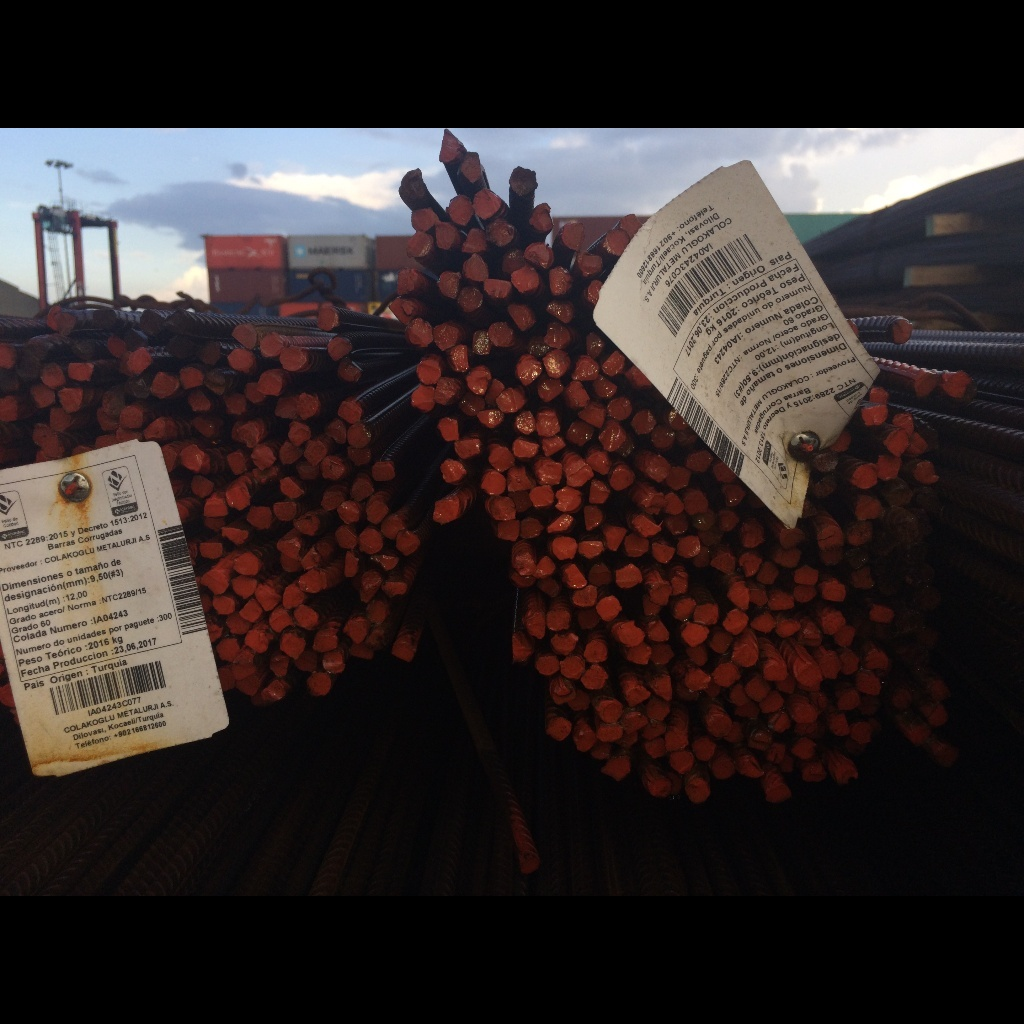dipstick: (473, 188, 499, 219), (510, 166, 538, 194), (439, 130, 463, 162), (943, 369, 968, 399), (408, 320, 435, 347), (435, 377, 462, 404), (517, 356, 541, 386), (152, 372, 179, 398), (462, 254, 488, 281), (544, 351, 570, 378), (400, 168, 425, 196), (466, 366, 490, 395), (450, 194, 472, 225), (527, 243, 554, 268), (576, 251, 603, 276), (794, 661, 821, 686), (180, 443, 204, 471), (461, 227, 485, 255), (487, 222, 515, 246), (550, 267, 573, 296), (407, 231, 432, 257), (566, 462, 592, 487), (459, 286, 483, 313), (411, 385, 435, 412), (602, 758, 629, 782), (530, 203, 552, 232), (462, 153, 483, 183), (167, 310, 192, 335), (488, 447, 513, 472), (616, 563, 641, 588), (765, 777, 790, 802), (513, 267, 539, 291), (433, 325, 459, 349), (556, 487, 582, 511), (847, 523, 873, 547), (852, 464, 876, 490), (191, 415, 218, 438), (498, 389, 525, 412), (600, 424, 623, 451), (17, 354, 39, 382), (906, 565, 934, 587), (563, 222, 584, 251), (347, 423, 371, 448), (538, 379, 563, 403), (433, 498, 458, 522), (912, 485, 937, 509), (902, 540, 927, 564), (548, 300, 574, 323), (885, 431, 907, 458), (604, 231, 628, 255), (546, 324, 570, 348), (489, 322, 513, 346), (568, 423, 592, 447), (508, 468, 532, 492), (538, 462, 562, 486), (42, 363, 65, 388), (282, 346, 305, 371), (226, 484, 249, 509), (327, 337, 352, 360), (509, 306, 534, 329), (389, 300, 414, 323), (536, 412, 559, 437), (607, 397, 632, 420), (437, 271, 459, 297), (489, 498, 515, 520), (912, 591, 940, 611), (233, 325, 257, 348), (358, 530, 381, 554), (411, 208, 435, 231), (686, 779, 709, 803), (724, 611, 747, 635), (139, 309, 161, 334), (228, 350, 253, 372), (202, 571, 227, 593), (552, 537, 577, 559), (877, 458, 902, 480), (648, 456, 669, 482), (712, 664, 738, 685), (737, 756, 763, 777), (634, 517, 661, 537), (280, 635, 303, 658), (417, 361, 440, 384), (546, 717, 569, 740), (589, 562, 612, 585), (685, 491, 708, 514), (60, 387, 82, 411), (143, 417, 167, 439), (234, 553, 258, 575), (258, 586, 280, 610), (308, 673, 330, 697), (441, 460, 465, 482), (600, 700, 622, 724), (598, 596, 620, 620), (632, 409, 654, 433), (200, 340, 221, 365), (567, 381, 588, 406), (683, 625, 708, 646), (817, 526, 842, 547), (876, 572, 901, 593), (30, 386, 56, 406), (435, 223, 455, 249), (546, 513, 572, 533), (204, 371, 226, 394), (168, 337, 191, 359), (259, 333, 282, 355), (276, 396, 298, 419), (322, 456, 344, 479), (295, 606, 318, 628), (321, 652, 344, 674), (396, 532, 419, 554), (583, 666, 606, 688), (856, 498, 879, 520), (872, 531, 895, 553), (247, 507, 271, 528), (345, 619, 366, 643), (365, 500, 386, 524), (381, 514, 402, 538), (451, 345, 469, 373), (481, 473, 505, 494), (619, 624, 643, 645), (609, 469, 633, 490), (781, 527, 805, 548), (552, 634, 577, 654), (579, 406, 604, 426), (814, 453, 839, 473), (132, 348, 151, 374), (234, 652, 253, 678), (526, 612, 545, 638), (586, 332, 605, 358), (606, 526, 625, 552), (252, 446, 274, 468), (191, 474, 213, 496), (245, 630, 267, 652), (269, 610, 291, 632), (561, 657, 583, 679), (693, 738, 715, 760), (644, 493, 666, 515), (668, 467, 690, 489), (531, 485, 554, 506), (497, 520, 520, 541), (553, 680, 574, 703), (624, 713, 647, 734), (584, 641, 607, 662), (676, 536, 699, 557), (914, 462, 937, 483), (239, 423, 259, 447), (574, 586, 598, 606), (574, 359, 598, 379), (651, 542, 675, 562), (864, 650, 888, 670), (861, 406, 885, 426), (68, 362, 93, 381), (397, 269, 416, 294), (579, 540, 604, 559), (668, 753, 693, 772), (741, 551, 760, 576), (768, 591, 793, 610), (822, 654, 841, 679), (908, 646, 933, 665), (454, 440, 480, 458), (893, 317, 911, 343), (180, 367, 202, 388), (280, 444, 302, 465), (263, 680, 284, 702), (336, 527, 357, 549), (566, 565, 587, 587), (603, 353, 624, 375), (723, 483, 744, 505), (857, 673, 879, 694), (813, 477, 835, 498), (929, 680, 950, 702), (392, 642, 415, 662), (366, 600, 386, 623), (505, 248, 525, 271), (621, 214, 641, 237), (519, 519, 542, 539), (625, 537, 648, 557), (833, 761, 856, 781), (896, 520, 919, 540), (187, 392, 211, 411), (203, 497, 227, 516), (536, 657, 560, 676), (546, 612, 570, 631), (584, 505, 603, 529), (687, 452, 711, 471), (694, 605, 718, 624), (299, 393, 317, 418), (512, 637, 530, 662), (730, 583, 748, 608), (485, 280, 511, 297), (280, 478, 301, 499), (289, 423, 310, 444), (299, 570, 320, 591), (515, 553, 536, 574), (651, 584, 672, 605), (714, 462, 735, 483), (712, 758, 733, 779), (121, 408, 143, 428), (233, 578, 255, 598), (239, 601, 261, 621), (338, 361, 360, 381), (589, 481, 609, 503), (686, 668, 708, 688), (748, 678, 768, 700), (752, 613, 774, 633), (914, 376, 936, 396), (93, 308, 116, 327), (259, 374, 282, 393), (227, 452, 246, 475), (217, 639, 236, 662), (314, 634, 337, 653), (296, 652, 319, 671), (516, 411, 535, 434), (514, 439, 537, 458), (542, 437, 565, 456), (652, 676, 671, 699), (652, 428, 675, 447), (666, 492, 685, 515), (712, 555, 735, 574), (794, 567, 818, 585), (777, 548, 801, 566), (96, 410, 117, 430), (283, 586, 304, 606), (339, 402, 360, 422), (509, 492, 530, 512), (578, 610, 599, 630), (594, 378, 615, 398), (652, 645, 673, 665), (821, 613, 841, 634), (823, 581, 844, 601), (927, 704, 947, 725), (50, 408, 69, 430), (306, 442, 325, 464), (296, 515, 318, 534), (351, 481, 373, 500), (318, 308, 337, 330), (439, 419, 458, 441), (538, 579, 560, 598), (665, 515, 687, 534), (675, 599, 694, 621), (648, 622, 670, 641), (734, 647, 756, 666), (273, 502, 296, 520), (213, 596, 236, 614), (460, 396, 483, 414), (472, 332, 489, 356), (226, 393, 246, 413), (587, 280, 603, 305), (576, 731, 596, 751), (711, 633, 731, 653), (709, 714, 729, 734), (910, 432, 926, 457), (34, 424, 55, 443), (129, 379, 150, 398), (339, 502, 358, 523), (666, 733, 687, 752), (649, 778, 670, 797), (630, 367, 651, 386), (589, 453, 608, 474), (742, 529, 763, 548), (227, 617, 249, 635), (217, 669, 235, 691), (372, 463, 394, 481), (648, 701, 670, 719), (720, 510, 738, 532), (777, 619, 799, 637), (889, 486, 911, 504), (896, 614, 918, 632), (348, 448, 371, 465), (479, 410, 502, 427), (802, 765, 825, 782), (852, 570, 875, 587), (1, 397, 17, 421), (760, 561, 776, 585), (918, 513, 934, 537), (73, 340, 93, 359), (645, 740, 665, 759), (769, 714, 789, 733), (909, 723, 929, 742), (104, 392, 122, 413), (279, 540, 300, 558), (527, 338, 548, 356), (734, 705, 759, 720), (628, 646, 650, 663), (199, 542, 222, 558), (383, 581, 406, 597), (329, 420, 345, 443), (694, 510, 713, 529), (322, 491, 342, 509), (302, 548, 320, 568), (343, 553, 358, 577), (537, 556, 555, 576), (571, 691, 589, 711), (669, 409, 687, 429), (801, 622, 819, 642), (840, 690, 858, 710), (830, 715, 848, 735), (921, 628, 941, 646), (892, 690, 912, 708), (1, 373, 18, 394), (245, 383, 266, 400), (239, 677, 260, 694), (762, 694, 783, 711), (700, 528, 722, 544), (671, 572, 687, 594), (223, 529, 248, 543), (488, 379, 502, 404), (597, 727, 622, 741), (367, 630, 385, 649), (794, 740, 813, 758), (58, 313, 75, 333), (270, 655, 287, 675), (749, 731, 769, 748), (853, 723, 870, 743), (935, 747, 955, 764), (107, 335, 123, 356), (794, 585, 815, 601), (627, 688, 649, 703), (793, 707, 815, 722), (841, 652, 856, 674), (42, 442, 60, 460), (749, 588, 767, 606), (822, 548, 841, 565), (895, 414, 914, 431), (94, 434, 115, 449), (870, 606, 891, 621), (845, 551, 866, 566), (376, 555, 398, 569), (731, 686, 748, 704), (836, 627, 853, 645), (26, 344, 45, 360), (299, 462, 318, 478), (362, 572, 381, 588), (645, 724, 664, 740), (687, 647, 706, 663), (1, 347, 16, 367), (765, 664, 785, 679), (349, 645, 372, 658), (668, 773, 682, 794), (593, 743, 610, 760), (767, 746, 784, 763), (48, 305, 60, 329), (643, 597, 659, 615), (868, 388, 886, 404), (281, 557, 300, 572), (206, 622, 221, 640), (116, 430, 140, 441), (253, 469, 275, 481), (778, 677, 794, 693), (620, 733, 637, 748), (205, 518, 226, 530), (621, 437, 634, 456), (514, 575, 534, 587), (121, 352, 131, 375), (728, 726, 742, 740)
